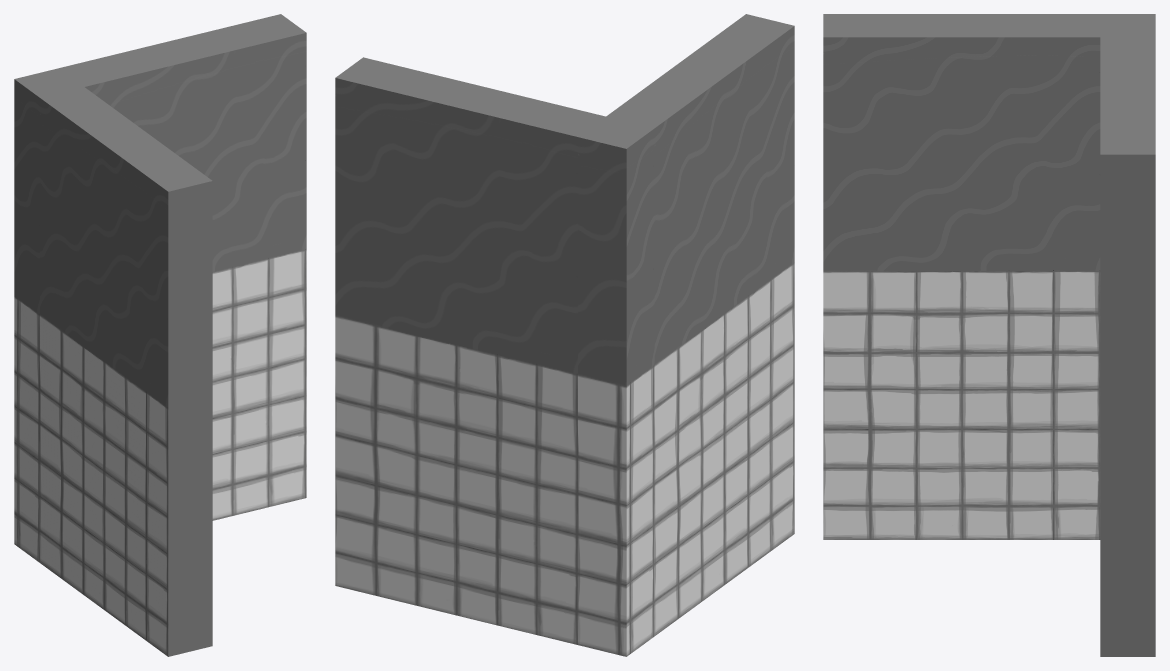
The model's file is S_Wall_Corner.fbx.
The picture shows the model from 3 angles, left to right: view 1: azimuth 30°, elevation 25°; view 2: azimuth 150°, elevation 25°; view 3: azimuth 270°, elevation 25°; orthographic projection. The views are drawn at different scales.
Visible parts, largest first — view 1: Cube.001; view 2: Cube.001; view 3: Cube.001.
Part boxes in pixels (x1=…): Cube.001: x1=14, y1=14, x2=306, y2=656; Cube.001: x1=335, y1=14, x2=794, y2=656; Cube.001: x1=823, y1=14, x2=1155, y2=656.
Bounding box in the file's own units: 1.2 × 2 × 1.2.
